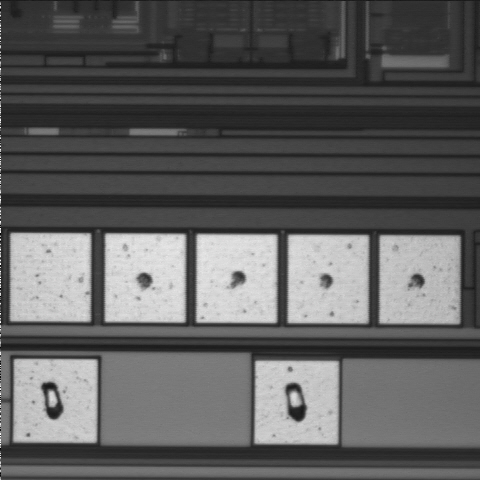pad: (105, 234, 185, 322), (197, 235, 277, 323), (288, 235, 368, 323), (11, 233, 90, 321), (14, 359, 97, 442), (255, 361, 338, 444), (380, 236, 459, 323)
